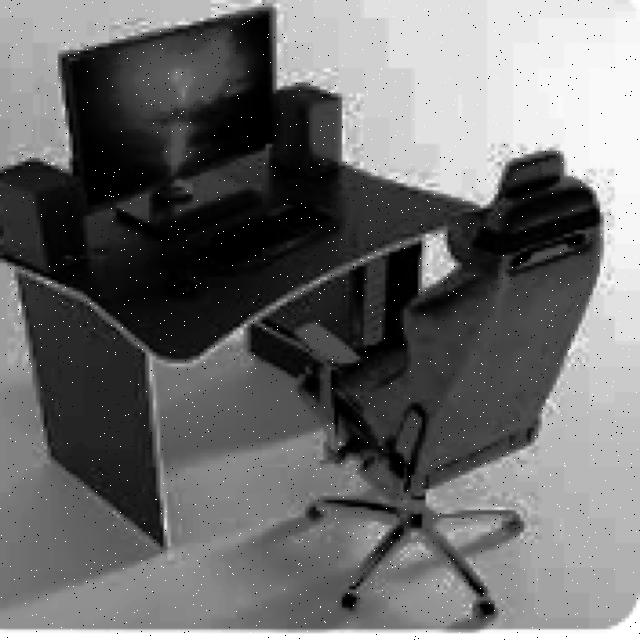book: (251, 147, 604, 622)
table: (0, 140, 484, 550)
